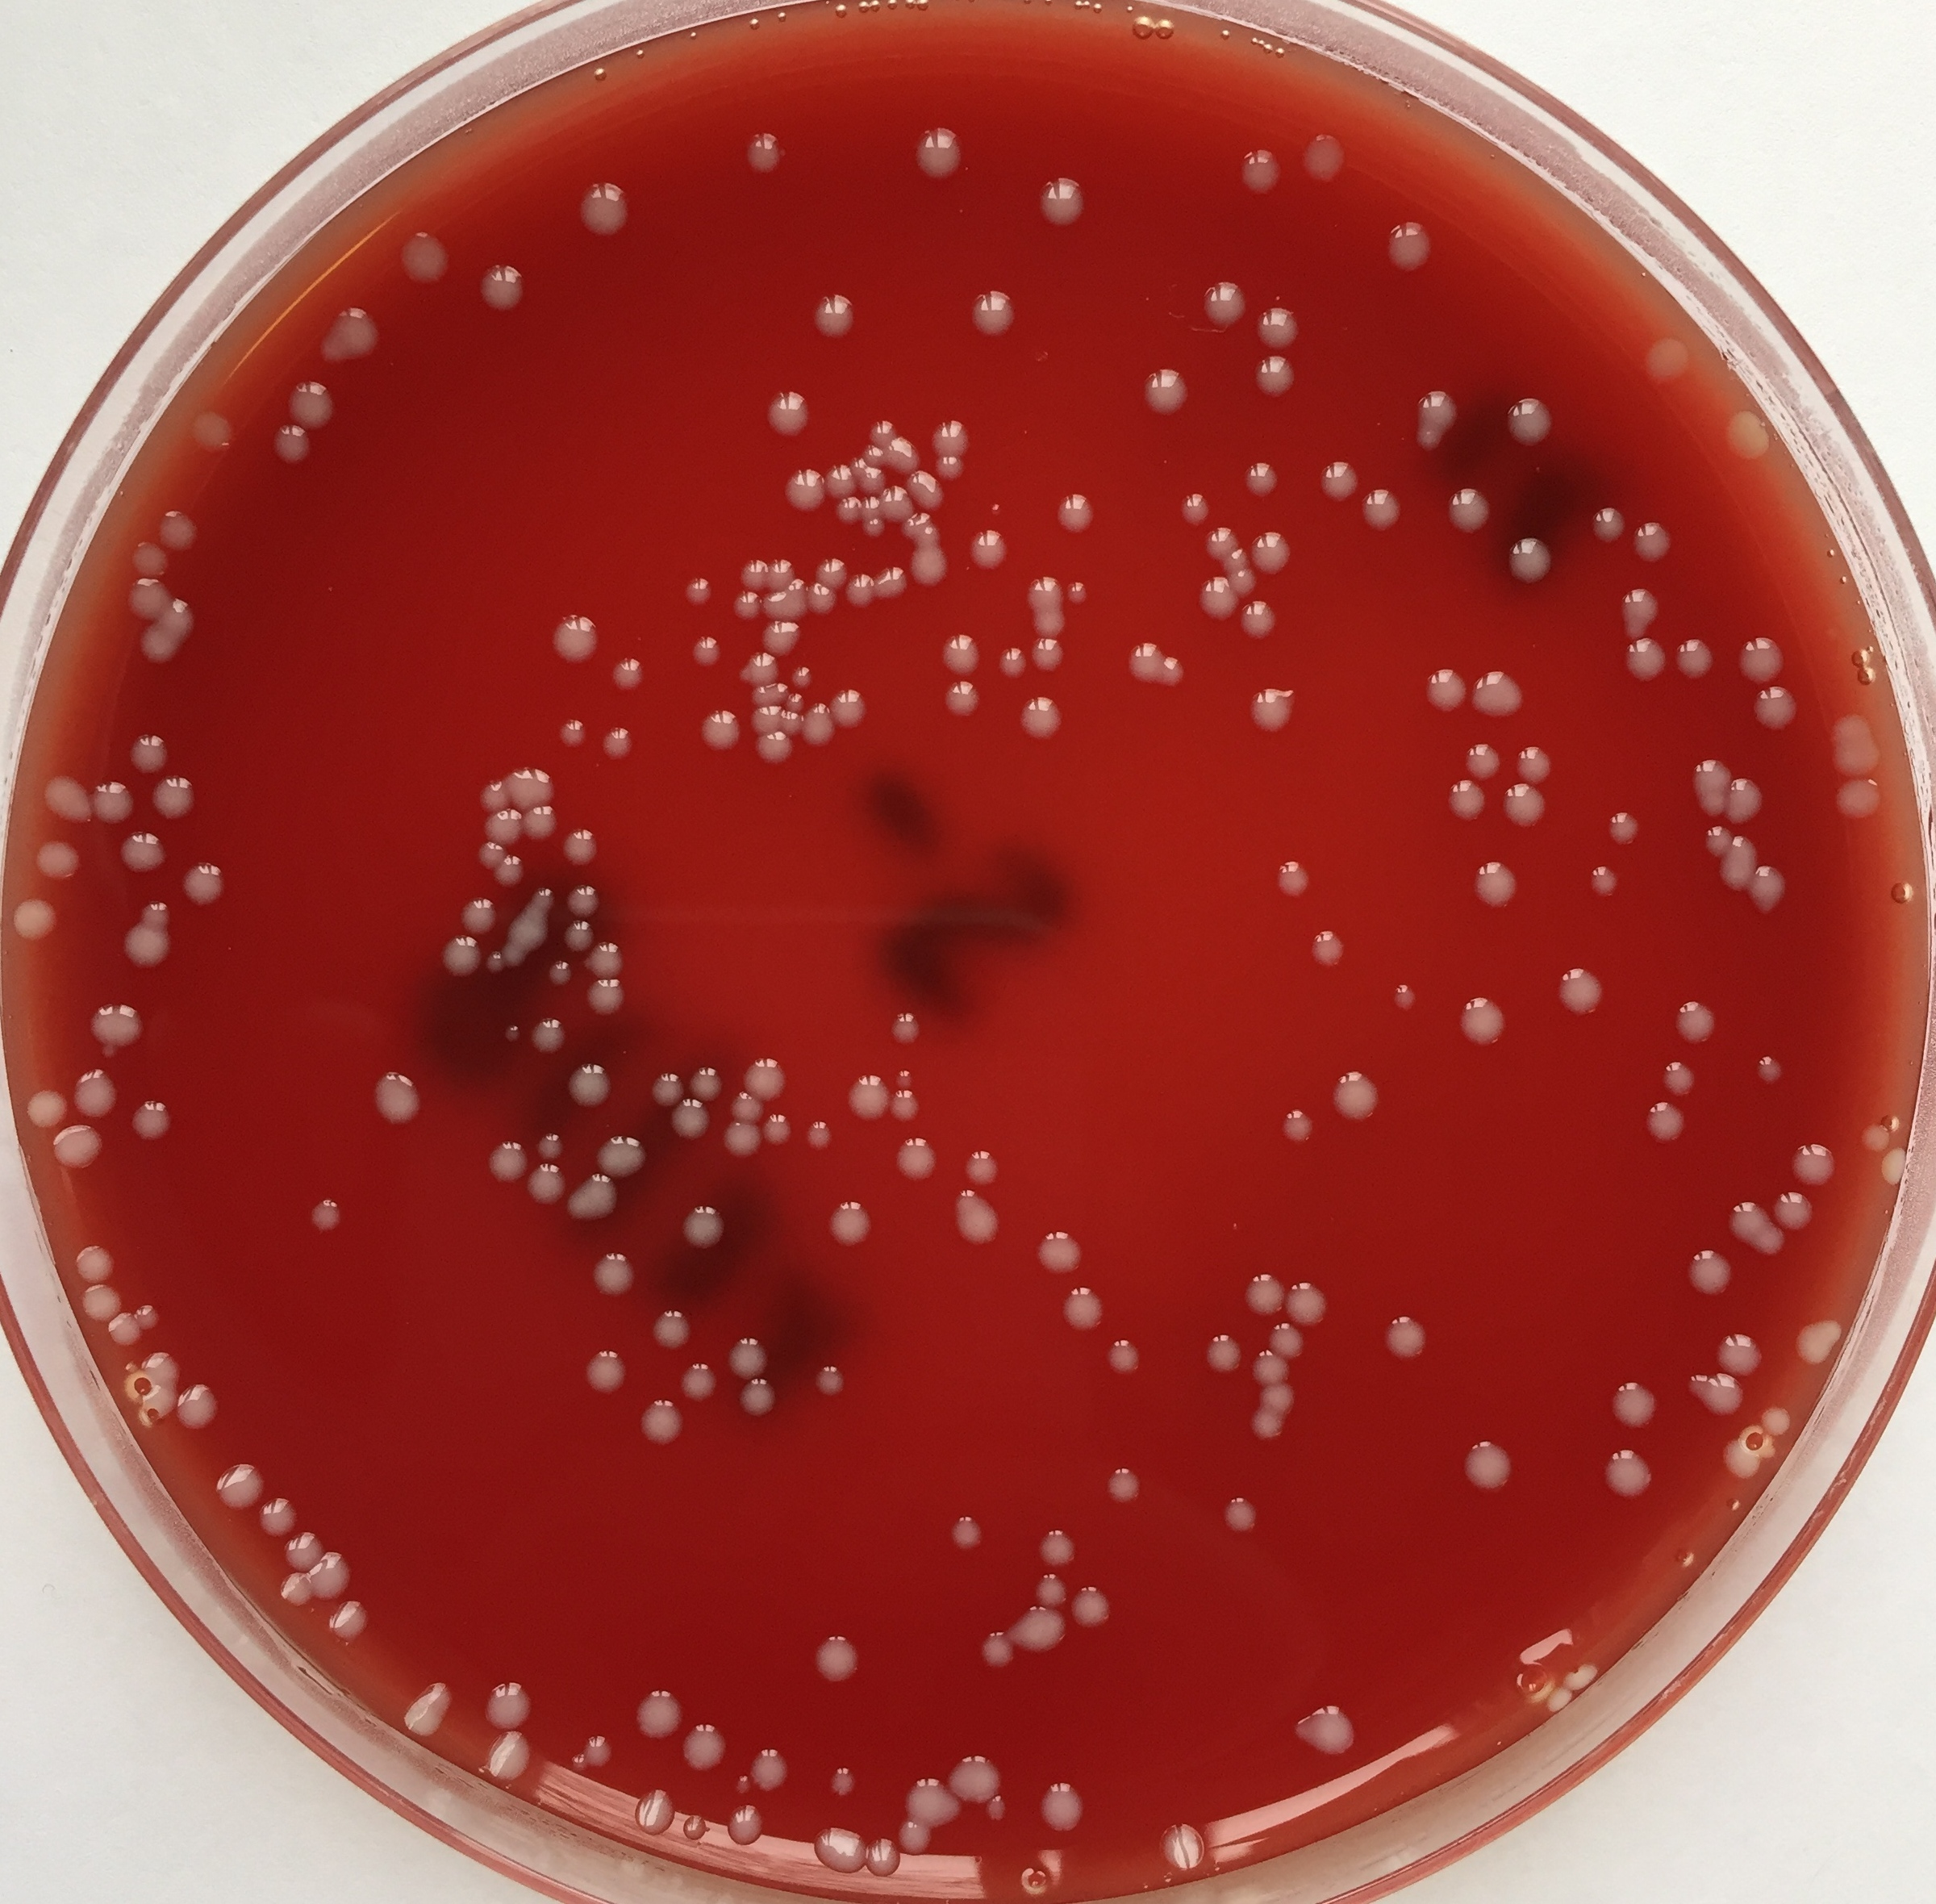sp22: (1288, 1693, 1366, 1770), (570, 173, 640, 246), (77, 997, 155, 1062), (498, 882, 554, 973), (1464, 856, 1535, 926), (110, 896, 173, 973), (951, 282, 1023, 347), (906, 110, 967, 183), (1148, 1815, 1215, 1878), (1460, 1425, 1514, 1501), (1601, 1447, 1659, 1519), (1100, 1444, 1152, 1522), (1542, 950, 1598, 1023), (1410, 394, 1469, 460), (1824, 706, 1882, 774), (371, 1060, 423, 1132), (1133, 364, 1195, 422), (819, 1198, 880, 1255), (324, 302, 380, 364), (739, 112, 788, 183), (810, 277, 859, 347), (1795, 1313, 1851, 1374), (1382, 213, 1436, 275), (807, 1630, 866, 1686), (809, 1822, 868, 1878), (1678, 1245, 1737, 1301), (397, 1674, 451, 1735), (1605, 1367, 1659, 1428), (1037, 1778, 1091, 1839), (1303, 126, 1356, 188), (404, 221, 450, 293), (10, 894, 66, 952), (1448, 994, 1506, 1050), (936, 1503, 995, 1557), (1241, 134, 1288, 202), (950, 1187, 1000, 1250), (946, 1747, 1002, 1803), (760, 380, 814, 438), (1331, 1069, 1384, 1128), (1005, 1606, 1066, 1656), (1251, 354, 1314, 403), (1723, 406, 1772, 467), (587, 1248, 641, 1302), (904, 1773, 958, 1827), (1039, 171, 1091, 227), (1061, 1280, 1114, 1336), (547, 607, 598, 664), (1725, 1200, 1783, 1250), (42, 767, 91, 826), (1511, 394, 1560, 453), (1690, 746, 1729, 821), (678, 1723, 732, 1775), (1736, 631, 1790, 683), (211, 1458, 261, 1513), (483, 1731, 533, 1787), (1469, 666, 1525, 717), (636, 1683, 685, 1740), (681, 1198, 727, 1259), (470, 258, 521, 312), (1197, 279, 1251, 330), (1685, 1370, 1744, 1416), (1715, 832, 1758, 893), (185, 849, 225, 915), (1713, 1322, 1763, 1374), (1445, 486, 1493, 541), (1039, 1217, 1084, 1275), (838, 1069, 889, 1119), (1377, 1311, 1427, 1362), (572, 1173, 624, 1222), (112, 832, 167, 877), (484, 1677, 535, 1726), (579, 1348, 629, 1397), (1506, 534, 1556, 582), (1750, 685, 1800, 734), (1014, 692, 1061, 745), (178, 1381, 223, 1435), (1673, 633, 1715, 690), (734, 1377, 782, 1426), (150, 774, 199, 823), (1251, 302, 1300, 350), (1621, 638, 1669, 687), (51, 1125, 101, 1172), (441, 933, 484, 987), (1608, 800, 1650, 856), (1216, 1482, 1258, 1538), (1073, 1580, 1115, 1635), (565, 1062, 613, 1109), (1356, 485, 1403, 534), (1272, 856, 1319, 905), (892, 1137, 939, 1186), (638, 1397, 683, 1447), (310, 1547, 354, 1599), (1441, 774, 1485, 826), (484, 1135, 526, 1189), (1251, 682, 1291, 738), (1026, 574, 1063, 635), (728, 1334, 775, 1381), (326, 1597, 375, 1642), (73, 1067, 118, 1116), (1035, 1522, 1084, 1567), (1793, 1142, 1842, 1187), (91, 778, 134, 828), (1833, 781, 1884, 825), (190, 406, 232, 459), (1622, 581, 1659, 640), (676, 1360, 721, 1407), (131, 1098, 176, 1146), (741, 1053, 786, 1100), (584, 978, 629, 1025), (1642, 337, 1690, 380), (1502, 786, 1546, 835), (30, 837, 80, 879), (1058, 488, 1100, 539), (1242, 1264, 1284, 1315), (1657, 1058, 1708, 1100), (786, 460, 826, 513), (1629, 520, 1676, 563), (1096, 1341, 1143, 1384), (598, 1133, 646, 1175), (526, 1161, 568, 1210), (910, 471, 951, 520), (1579, 858, 1628, 900), (1727, 774, 1769, 823), (1319, 453, 1359, 504), (1425, 661, 1466, 711), (908, 544, 951, 589), (509, 764, 556, 806), (1305, 926, 1347, 973), (1669, 999, 1711, 1046), (1772, 1189, 1819, 1231), (634, 1785, 674, 1834), (697, 706, 737, 755), (286, 380, 326, 429), (969, 525, 1009, 574), (24, 1085, 68, 1128), (1241, 460, 1284, 504), (605, 649, 646, 694), (938, 629, 979, 675), (1642, 1097, 1683, 1142), (1286, 1278, 1328, 1323), (728, 1805, 768, 1852), (71, 1240, 118, 1280), (887, 1006, 927, 1053), (131, 729, 169, 778), (831, 685, 868, 736), (1514, 743, 1556, 786), (671, 1097, 711, 1142), (160, 506, 199, 553), (1202, 1330, 1241, 1377), (260, 1494, 300, 1538), (134, 1386, 174, 1430), (765, 579, 809, 619), (1276, 1105, 1319, 1146), (962, 1146, 1002, 1189), (1197, 575, 1235, 621), (981, 1629, 1019, 1674), (753, 1745, 789, 1792), (1124, 640, 1161, 687), (1720, 1435, 1757, 1482), (598, 722, 636, 765), (268, 422, 312, 460), (1174, 486, 1213, 530), (1249, 530, 1288, 574), (78, 1283, 124, 1320), (1155, 650, 1190, 697), (1751, 865, 1786, 912), (129, 537, 167, 579), (931, 411, 972, 450), (530, 1017, 566, 1060), (648, 1064, 685, 1107), (944, 678, 981, 722), (828, 1759, 864, 1803), (1591, 500, 1626, 546), (758, 622, 805, 656), (721, 1125, 762, 1163), (124, 577, 164, 615), (1462, 741, 1500, 781), (1384, 983, 1424, 1022), (282, 1529, 324, 1566), (457, 889, 493, 931), (582, 938, 624, 975), (653, 1306, 688, 1350), (1237, 603, 1272, 647), (307, 1194, 345, 1233), (134, 624, 173, 663), (883, 436, 922, 474), (894, 1820, 932, 1859), (805, 701, 831, 757), (864, 1836, 897, 1880), (1878, 1144, 1912, 1187), (164, 595, 195, 640), (687, 1060, 725, 1097), (737, 649, 775, 685), (1270, 1322, 1309, 1358), (279, 1569, 312, 1611), (1248, 1409, 1291, 1440), (563, 832, 599, 868), (483, 811, 523, 844), (523, 804, 559, 839), (1251, 1348, 1288, 1383), (1033, 1571, 1070, 1606), (1258, 1383, 1296, 1416), (845, 568, 877, 609), (105, 1318, 141, 1351), (554, 717, 587, 753), (690, 635, 723, 671), (728, 589, 762, 626), (810, 1357, 842, 1395), (138, 1350, 176, 1381), (1701, 821, 1730, 861), (1762, 1402, 1797, 1435), (763, 1112, 795, 1149), (883, 486, 915, 523), (873, 567, 904, 603), (1202, 523, 1241, 553), (890, 1088, 920, 1126), (1563, 1660, 1601, 1690), (1035, 638, 1063, 678), (896, 518, 941, 542), (565, 884, 601, 914), (476, 840, 509, 872), (826, 462, 857, 495), (138, 1297, 164, 1336), (998, 642, 1025, 680), (748, 682, 791, 704), (1859, 1123, 1891, 1154), (730, 1093, 763, 1123), (563, 919, 596, 949), (762, 736, 795, 765), (814, 551, 843, 584), (586, 1731, 612, 1768), (809, 1118, 835, 1154), (985, 1791, 1011, 1827), (1751, 1053, 1788, 1079), (495, 854, 525, 886), (683, 574, 713, 605), (739, 556, 768, 588), (810, 591, 842, 621), (934, 453, 969, 479), (477, 776, 505, 807), (685, 1810, 711, 1843), (751, 704, 779, 734), (829, 499, 859, 527), (547, 961, 573, 992), (765, 556, 796, 582), (1066, 575, 1091, 609), (537, 1133, 565, 1161), (1230, 572, 1258, 600), (868, 415, 894, 443), (857, 495, 883, 521), (985, 499, 1014, 521), (861, 469, 885, 495), (1220, 553, 1249, 574), (486, 943, 502, 980), (781, 708, 802, 734), (502, 1023, 523, 1048), (890, 1065, 915, 1086), (863, 520, 889, 539), (1546, 1688, 1568, 1709), (784, 690, 805, 711), (863, 445, 883, 466), (793, 664, 812, 687), (566, 1754, 587, 1770), (734, 1775, 749, 1794), (847, 459, 868, 473)
